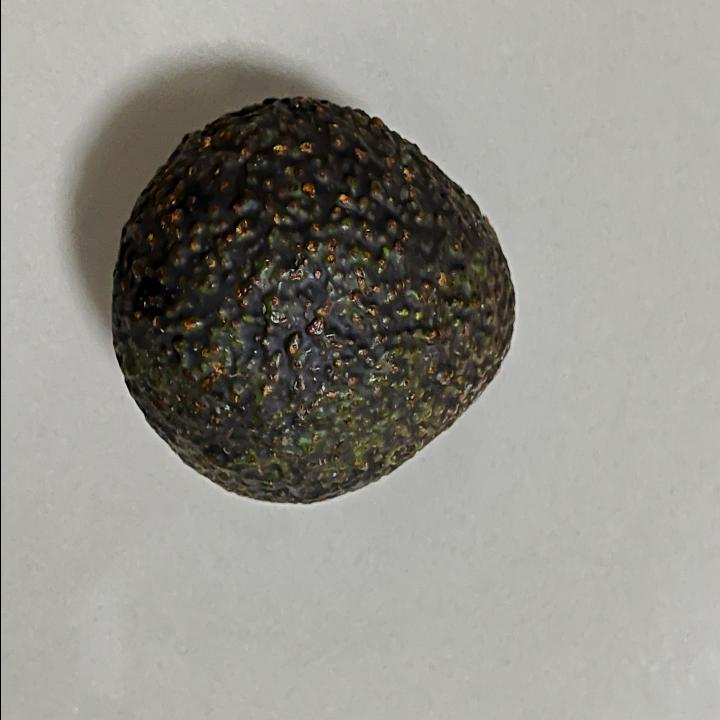Level1: (96, 84, 529, 520)
